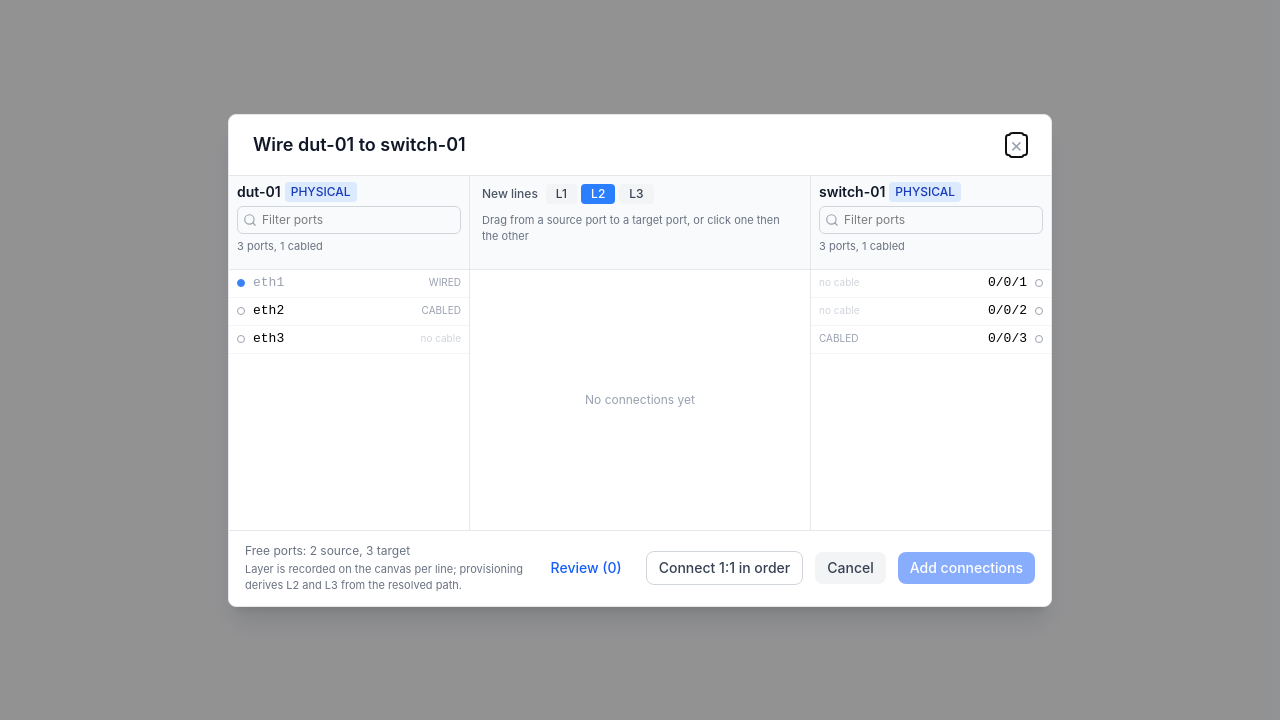
Test case: WiringDialog › existing canvas-wired ports are excluded from Connect 1:1 in order
Click the button "Connect 1:1 in order" at (724, 568), box [646,551,803,585]
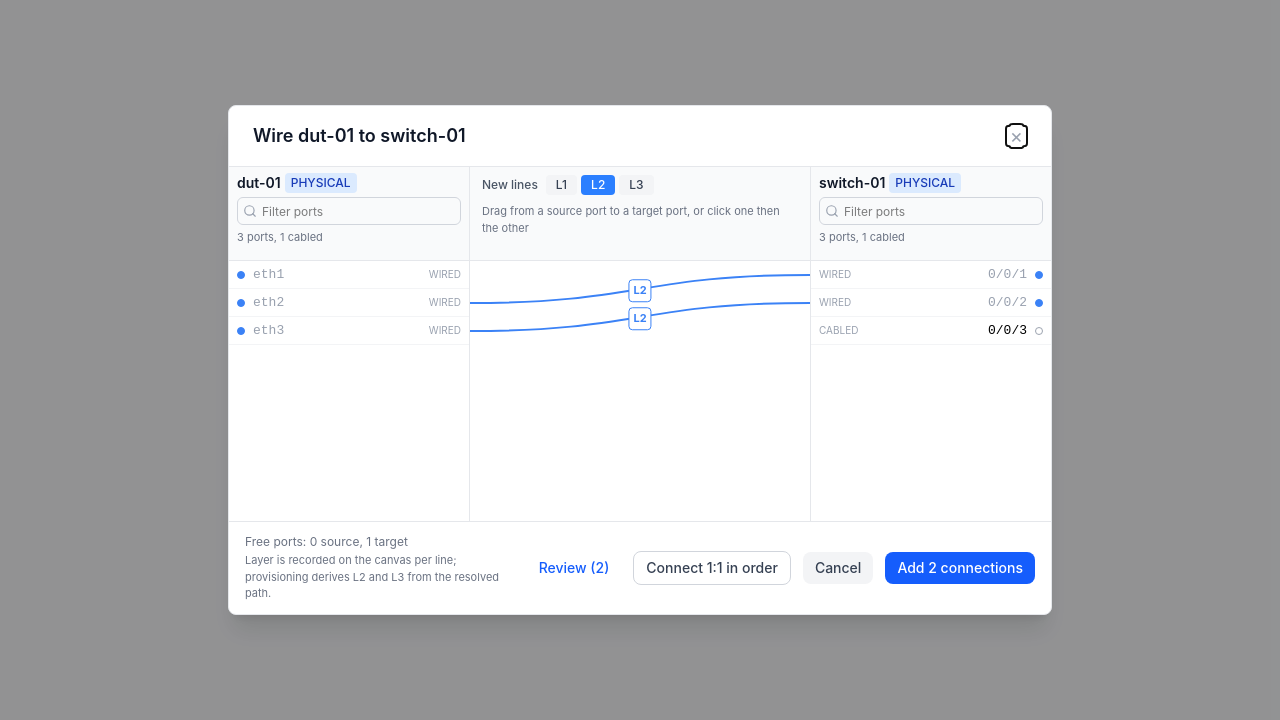
Check: the button "Add 2 connections" is enabled, box [885,552,1035,584]
